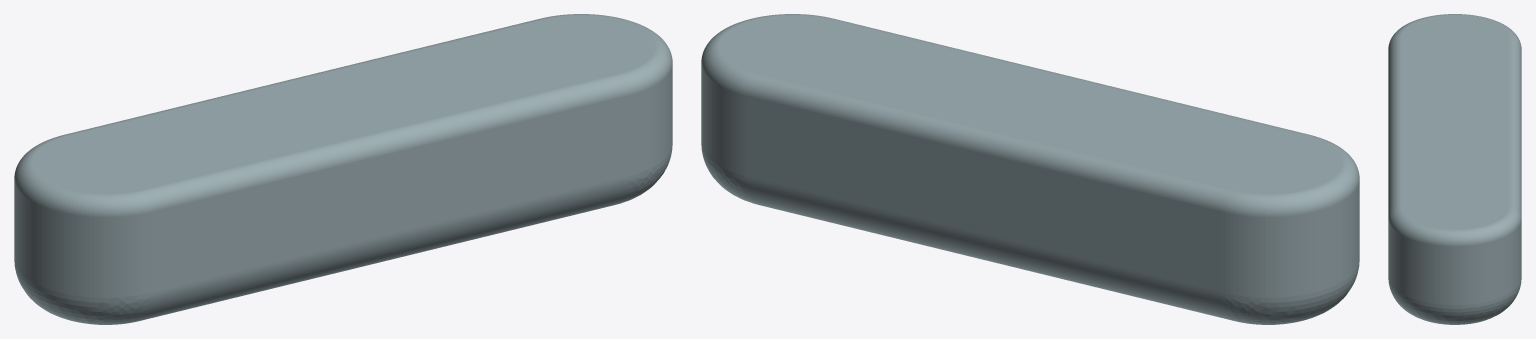
File: cameraD455.dae
3 views of the same model, side by side, from view 1: azimuth 30°, elevation 25°; view 2: azimuth 150°, elevation 25°; view 3: azimuth 270°, elevation 25° (orthographic). The views are drawn at different scales.
Visible parts, largest first — view 1: node0; view 2: node0; view 3: node0.
Part boxes in pixels (x1,y1,x2,y2): node0: [14, 14, 672, 324]; node0: [701, 14, 1359, 324]; node0: [1388, 14, 1521, 324].
Size of the model in its own units: 0.124 by 0.031 by 0.026.
